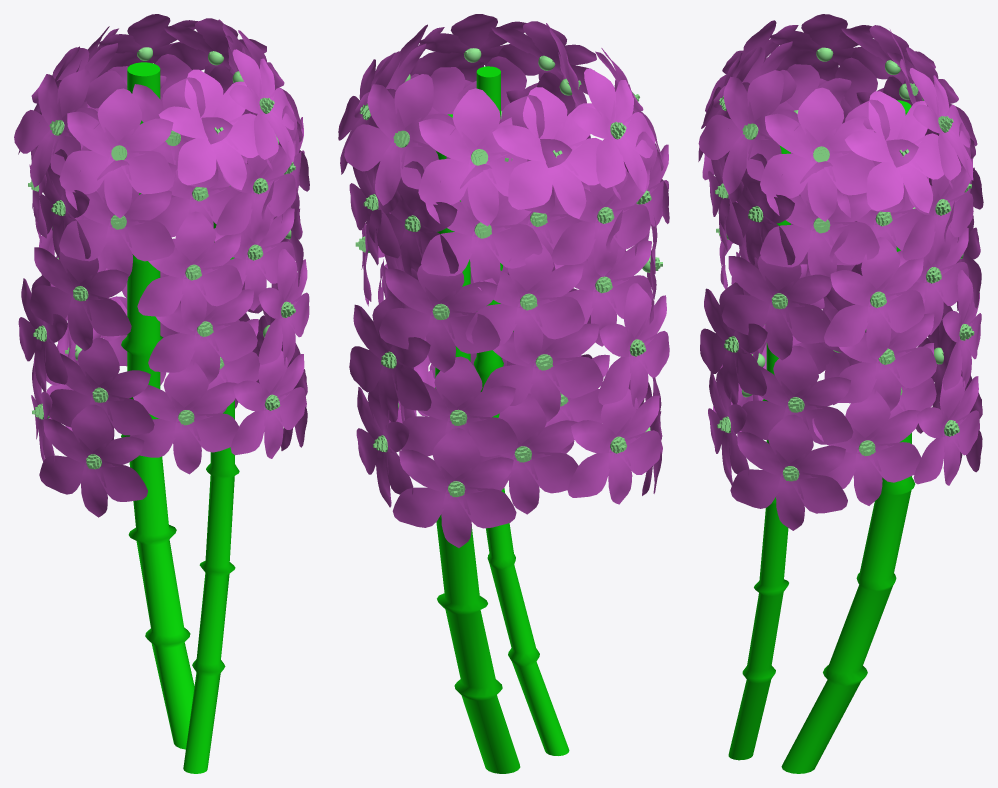
The model's file is Dendorobium.fbx.
3 renders of one model, left to right at view 1: azimuth 30°, elevation 25°; view 2: azimuth 150°, elevation 25°; view 3: azimuth 270°, elevation 25°, orthographic. The views are drawn at different scales.
Parts seen in each view (by area): view 1: pPlane10 (×19), pPlane9 (×18), pPlane4 (×16), pPlane8 (×16), pPlane7 (×15), pCylinder1, pPlane6 (×14), pCylinder2; view 2: pPlane10 (×24), pPlane9 (×17), pPlane4 (×18), pPlane7 (×17), pPlane8 (×19), pPlane6 (×13), pCylinder1, pCylinder2; view 3: pPlane10 (×22), pPlane9 (×17), pPlane4 (×18), pPlane8 (×17), pPlane7 (×14), pPlane6 (×13), pCylinder1, pCylinder2.
Boxes of the visible parts, left/top/right/bottom form: pPlane10 (×19): left=43, top=43, right=309, bottom=501; pPlane9 (×18): left=14, top=70, right=283, bottom=494; pPlane4 (×16): left=53, top=14, right=297, bottom=456; pPlane8 (×16): left=76, top=25, right=304, bottom=467; pPlane7 (×15): left=30, top=110, right=295, bottom=517; pCylinder1: left=121, top=62, right=194, bottom=749; pPlane6 (×14): left=34, top=43, right=284, bottom=464; pCylinder2: left=183, top=221, right=239, bottom=773; pPlane10 (×24): left=376, top=45, right=669, bottom=528; pPlane9 (×17): left=344, top=124, right=633, bottom=527; pPlane4 (×18): left=394, top=14, right=651, bottom=485; pPlane7 (×17): left=375, top=135, right=648, bottom=547; pPlane8 (×19): left=382, top=26, right=666, bottom=493; pPlane6 (×13): left=353, top=84, right=634, bottom=494; pCylinder1: left=435, top=114, right=520, bottom=773; pCylinder2: left=473, top=66, right=569, bottom=755; pPlane10 (×22): left=725, top=47, right=979, bottom=513; pPlane9 (×17): left=698, top=114, right=981, bottom=508; pPlane4 (×18): left=742, top=14, right=973, bottom=468; pPlane8 (×17): left=732, top=28, right=978, bottom=478; pPlane7 (×14): left=722, top=133, right=960, bottom=530; pPlane6 (×13): left=704, top=41, right=948, bottom=477; pCylinder1: left=781, top=100, right=915, bottom=773; pCylinder2: left=728, top=145, right=790, bottom=760.
Size of the model in its own units: 34.39 by 84.63 by 30.68.
